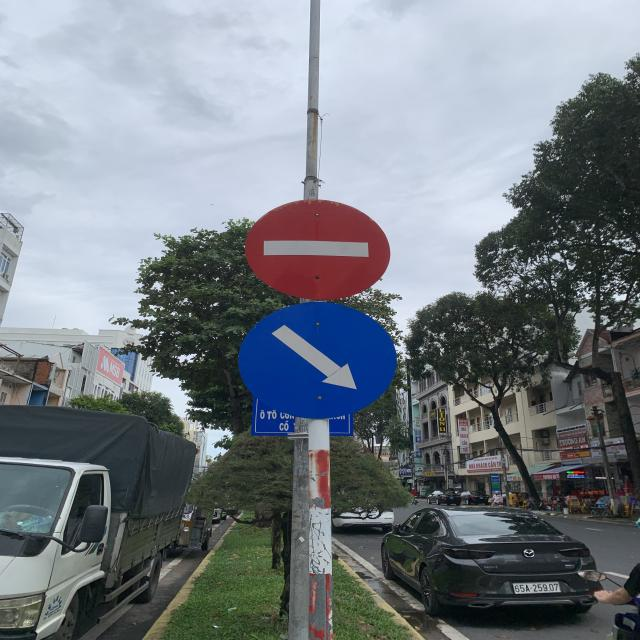Cam_Di_Nguoc_Chieu: (248, 197, 389, 303)
Chi_Huong_Di_Phai: (242, 307, 401, 422)
